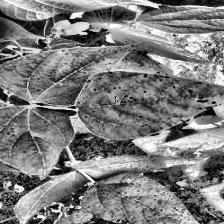ALS: (78, 70, 224, 134), (0, 43, 145, 106), (83, 171, 214, 224), (0, 110, 70, 177), (90, 159, 192, 172)
